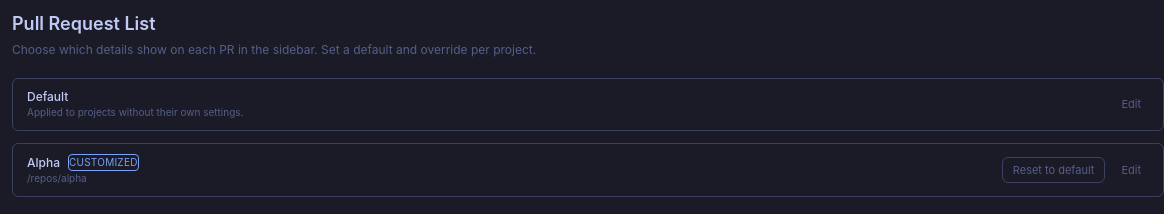
PRListDisplaySettings › Reset to default removes the override and the badge
Click the button "Reset to default": point(1054, 170) [1002,157,1105,183]
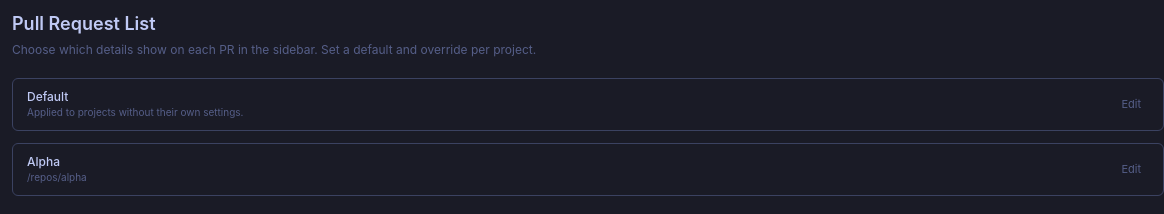
Expected: the text "Customized" is gone
